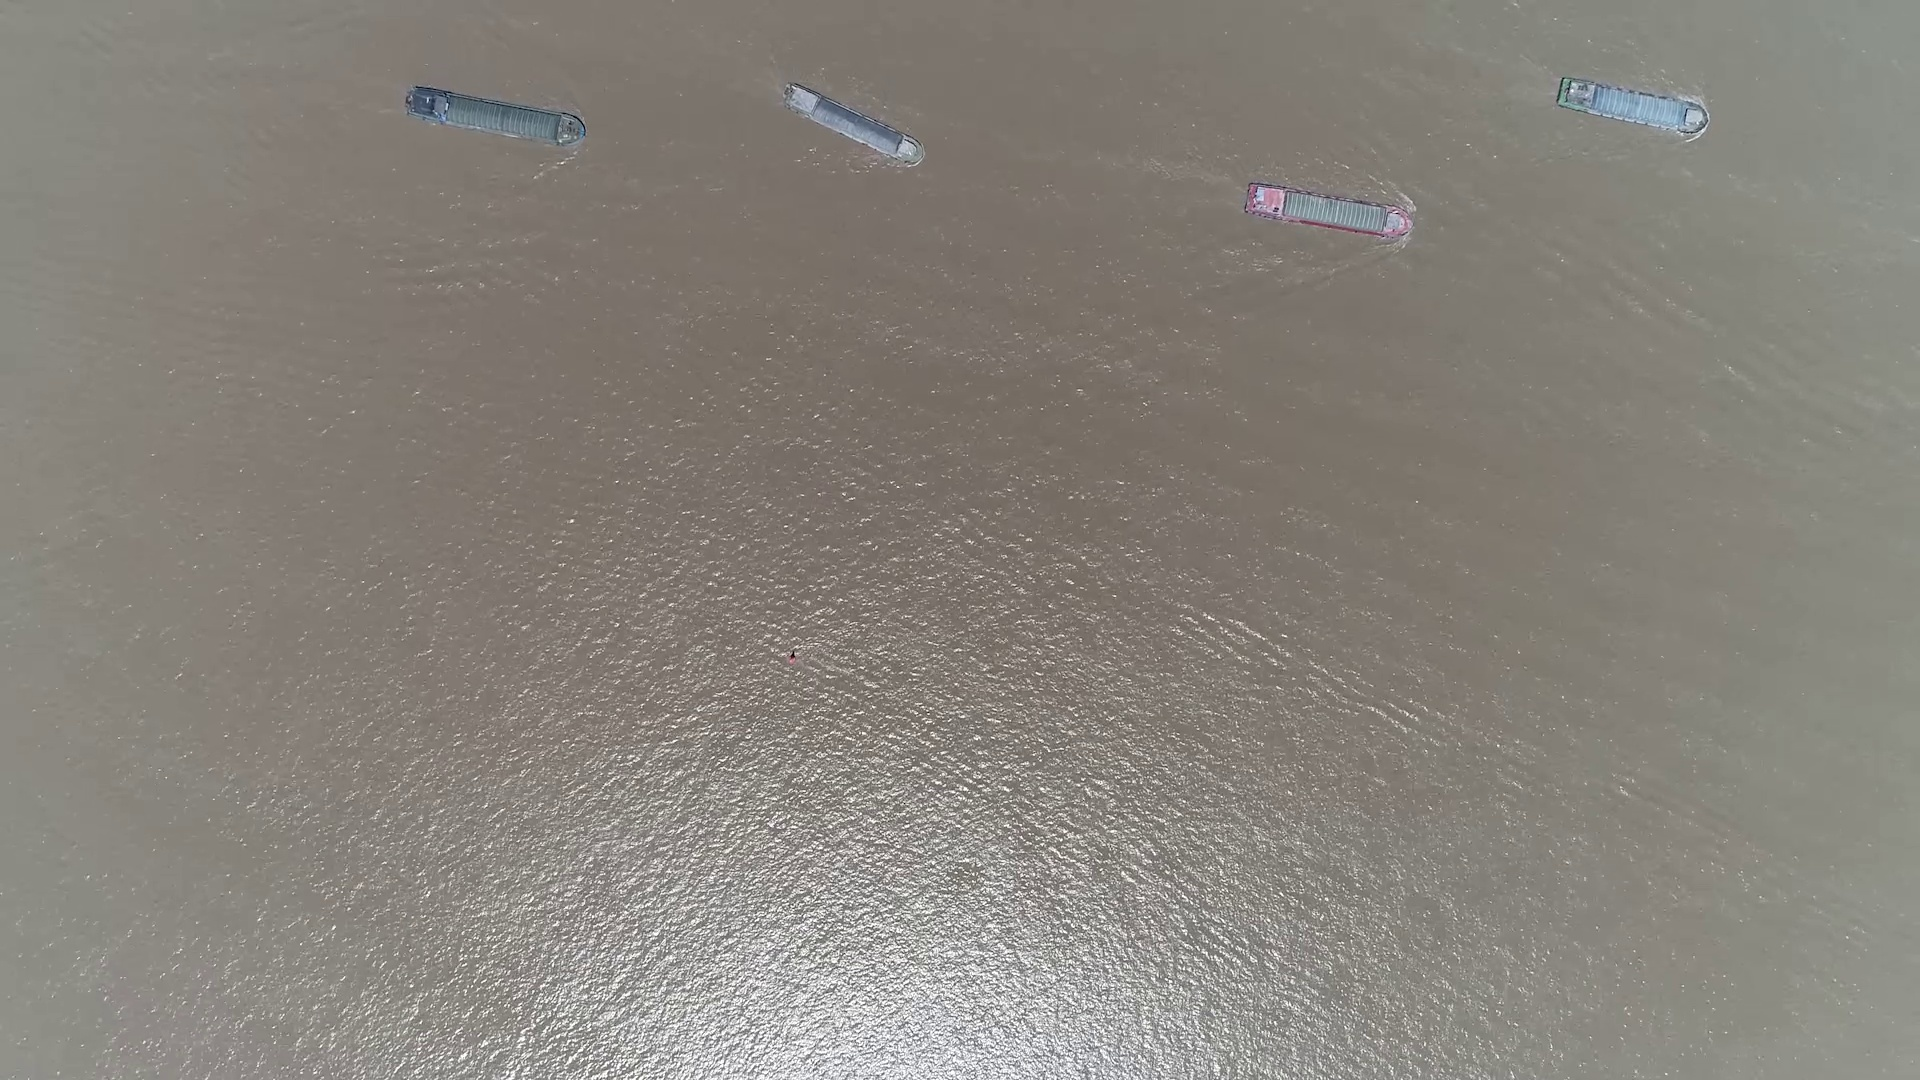ship: (404, 84, 585, 148), (782, 86, 920, 166), (1242, 182, 1414, 240), (1557, 79, 1709, 135)
